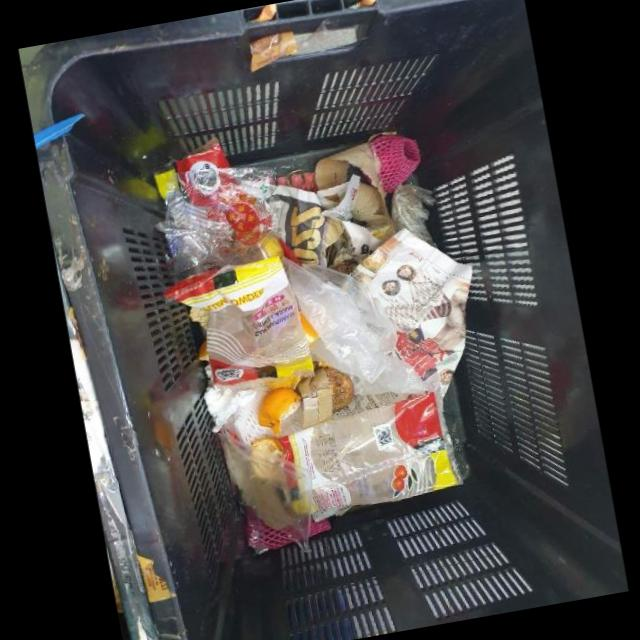bao_bi_thuc_pham: (277, 391, 457, 509), (163, 255, 314, 385)
giay: (359, 226, 472, 390), (270, 174, 360, 266), (203, 384, 256, 432)
tui_ni_long: (281, 256, 427, 395)
vo_rau_cu: (324, 368, 354, 413)
vo_trai_cay: (257, 387, 301, 435), (252, 437, 285, 457)
